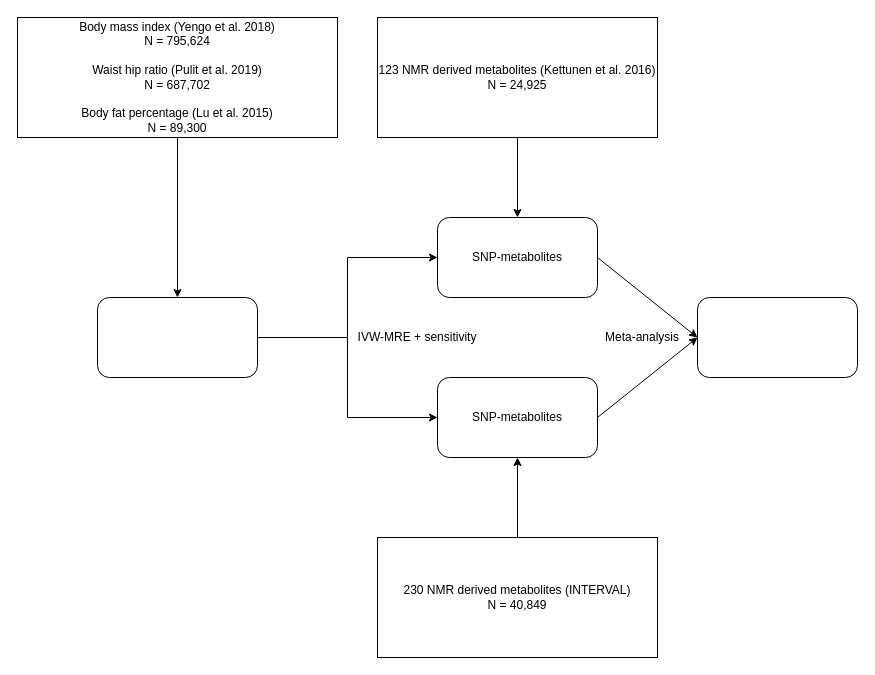
Some shapes in this 875 by 675 pixel diagram are drawn without their labels. The centre of each missing label's shape, as x and y in pixels:
"Shared metabolites N = 65,774" belongs at (x=777, y=337).
"SNP-adiposity" belongs at (x=177, y=337).
